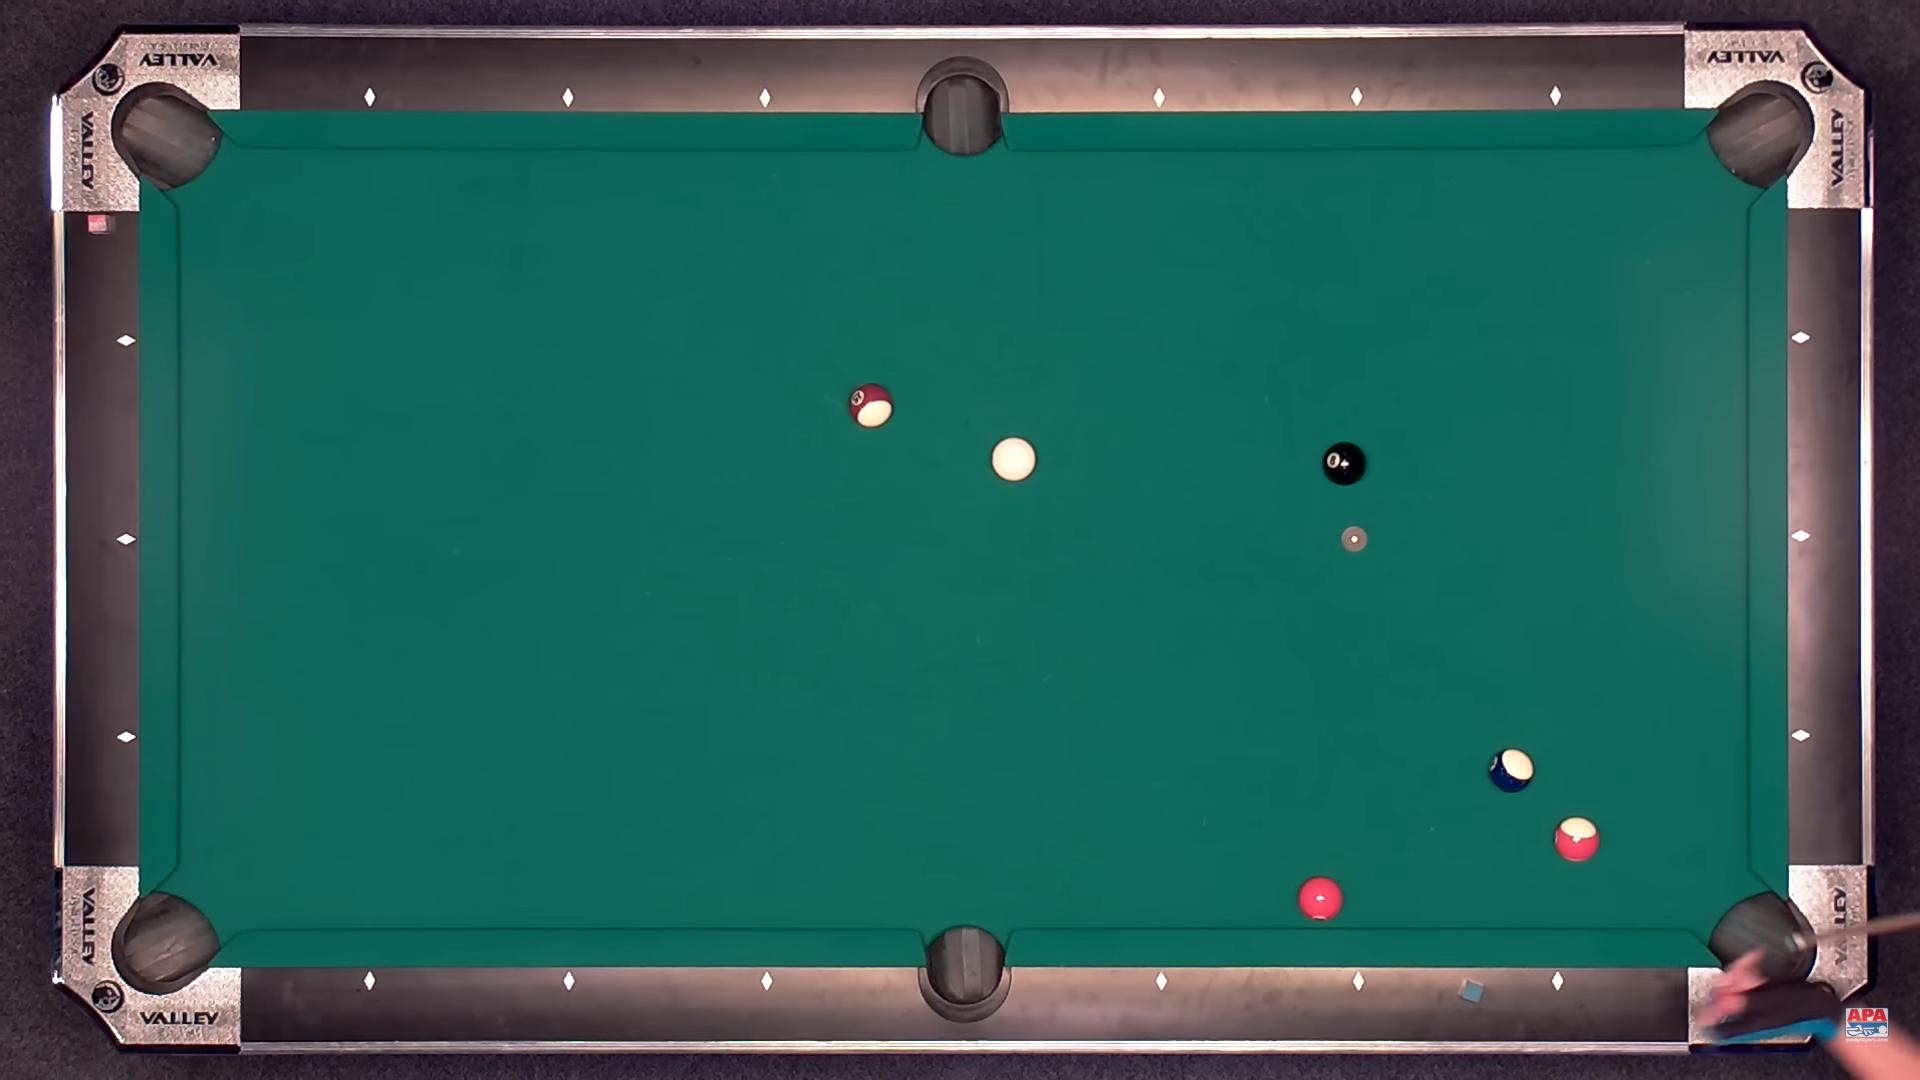Black: (1324, 442, 1366, 487)
Cue: (992, 438, 1035, 481)
Dot: (363, 91, 377, 105), (559, 91, 574, 105), (757, 92, 771, 107), (1793, 531, 1808, 546), (1552, 975, 1567, 989), (1153, 973, 1167, 988), (760, 975, 774, 989), (361, 975, 376, 989), (119, 334, 133, 348), (1549, 90, 1563, 104), (1792, 331, 1807, 344), (1796, 731, 1809, 745), (562, 975, 575, 989), (119, 729, 132, 744), (119, 531, 132, 546), (1153, 92, 1166, 105), (1349, 91, 1362, 104), (1352, 975, 1365, 988)
Solid: (1299, 876, 1342, 919)
Striped: (1553, 816, 1600, 862), (848, 382, 893, 427), (1489, 749, 1535, 793)
